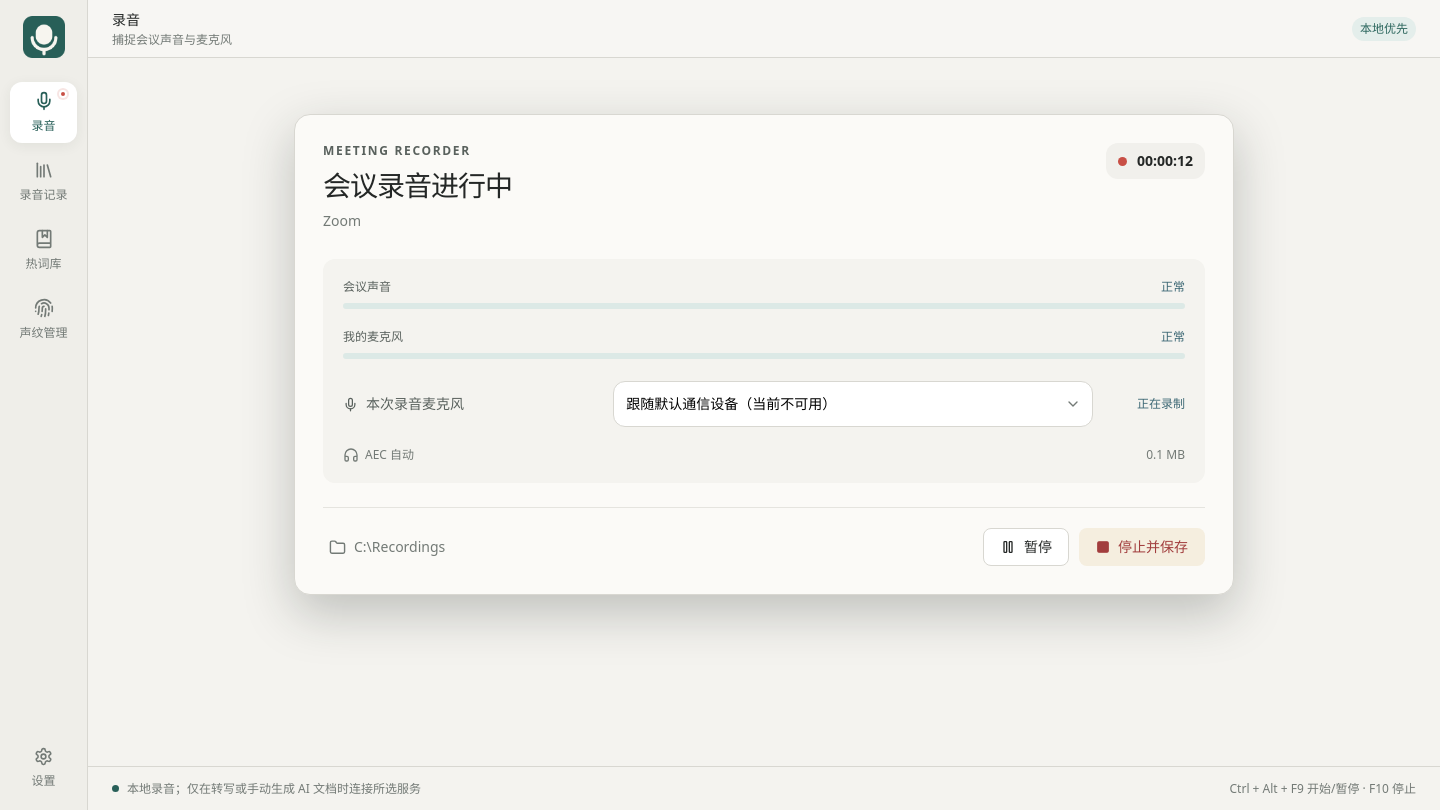
Nota UI states › shows a transient success toast after stopping and saving
The image size is (1440, 810).
Click the button "停止并保存": (1142, 547) left=1079, top=528, right=1205, bottom=566
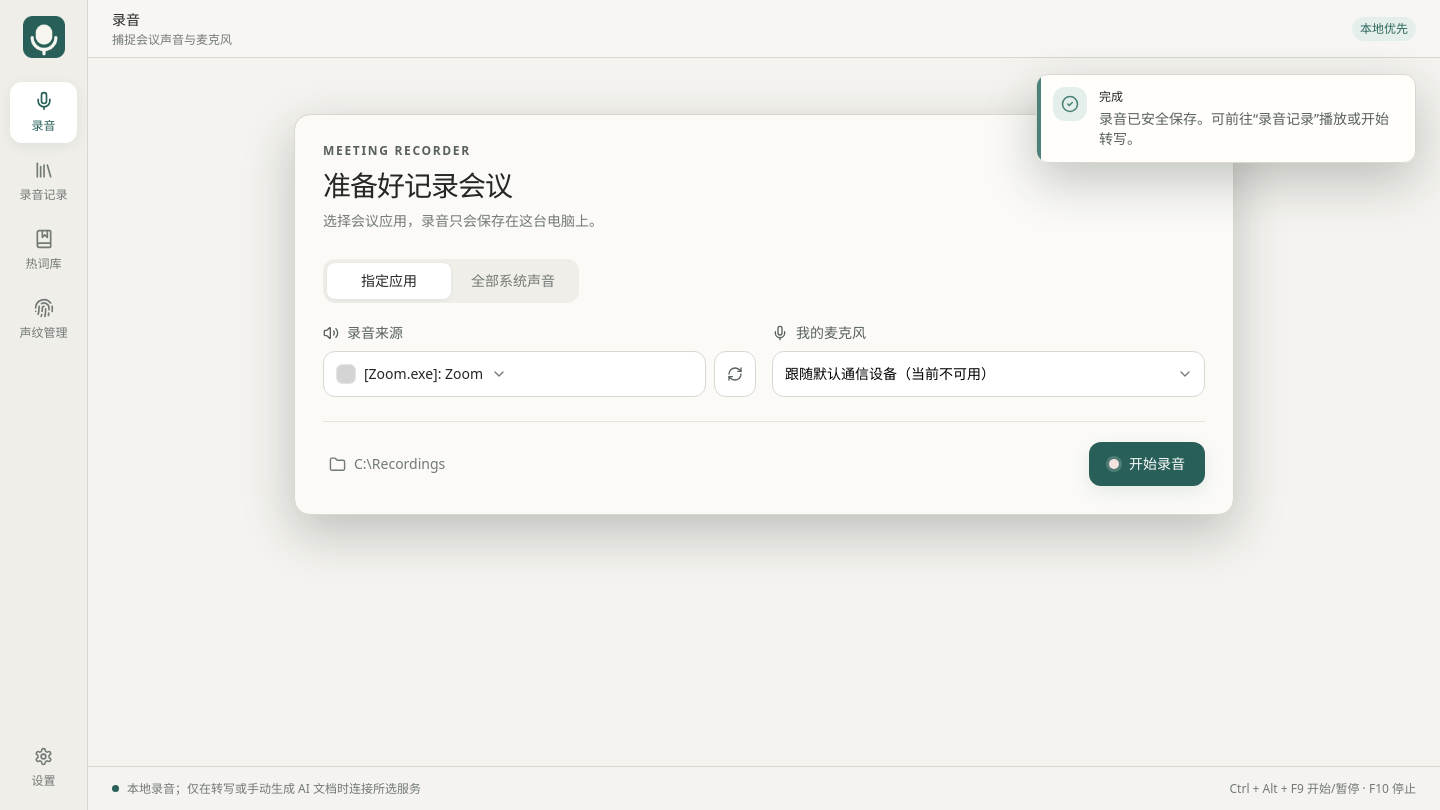
Expected: the message shows "录音已安全保存", left=1099, top=109, right=1389, bottom=148
